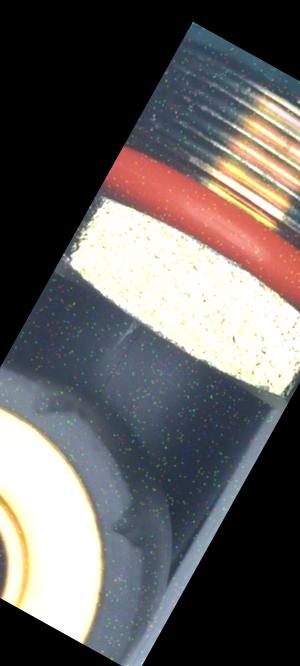bump: (96, 491, 164, 562), (26, 377, 89, 439)
joint line: (86, 354, 126, 407)
white mark: (104, 307, 145, 356)
